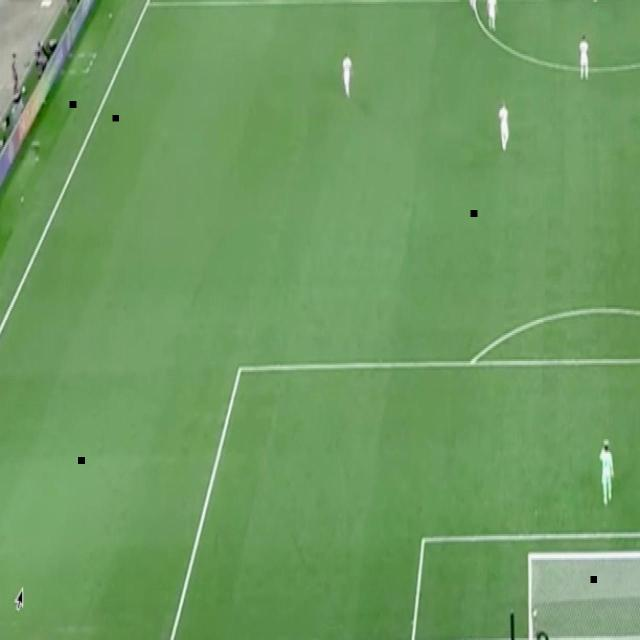ball: (21, 83, 27, 94)
player-white: (598, 437, 616, 508), (497, 96, 511, 153), (578, 32, 592, 82), (342, 50, 354, 101), (486, 0, 500, 32), (466, 0, 480, 13), (592, 0, 604, 4)
